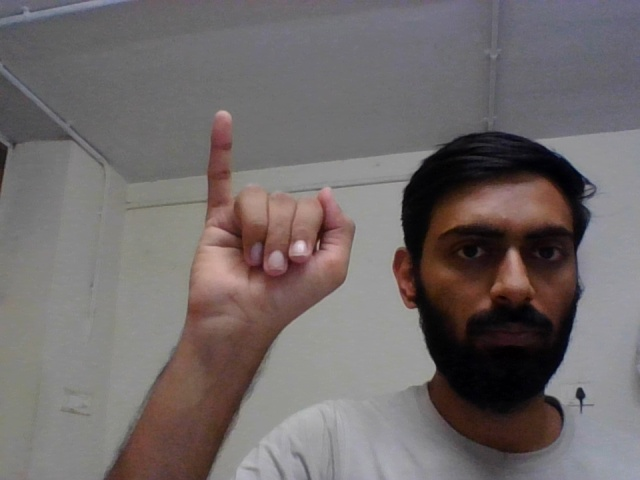I: (177, 102, 359, 368)
